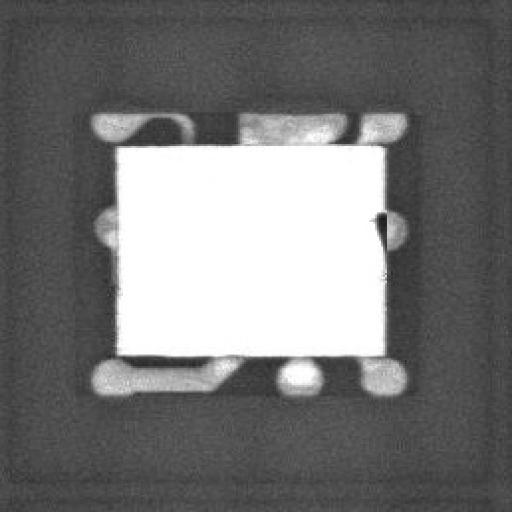DIE_BROKEN: (367, 205, 389, 250)
